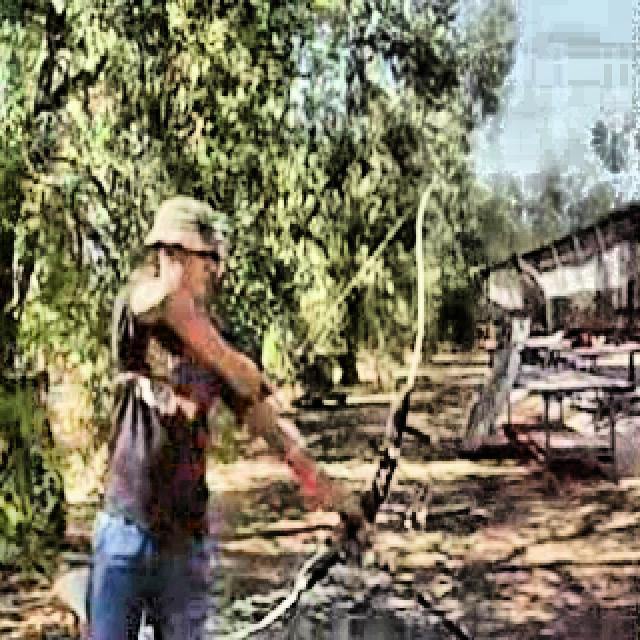I: (77, 168, 361, 640)
